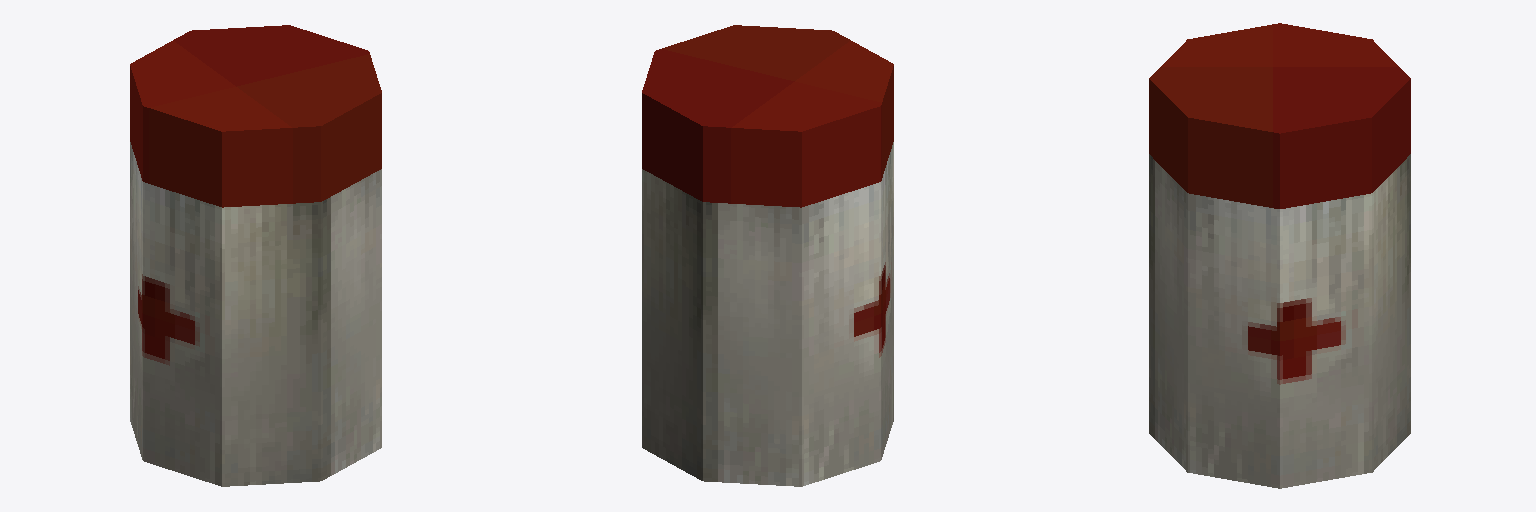
3 renders of one model, left to right at view 1: azimuth 30°, elevation 25°; view 2: azimuth 150°, elevation 25°; view 3: azimuth 270°, elevation 25°, orthographic.
Visible parts, largest first — view 1: painkiller.painkiller.smd.mesh_0; view 2: painkiller.painkiller.smd.mesh_0; view 3: painkiller.painkiller.smd.mesh_0.
Part boxes in pixels (bbox=[...]): painkiller.painkiller.smd.mesh_0: bbox=[130, 25, 381, 486]; painkiller.painkiller.smd.mesh_0: bbox=[642, 25, 893, 486]; painkiller.painkiller.smd.mesh_0: bbox=[1149, 23, 1410, 488].
Bounding box in the file's own units: 4.72 × 7.08 × 4.72.
Materials: 1 (1 with a texture image).